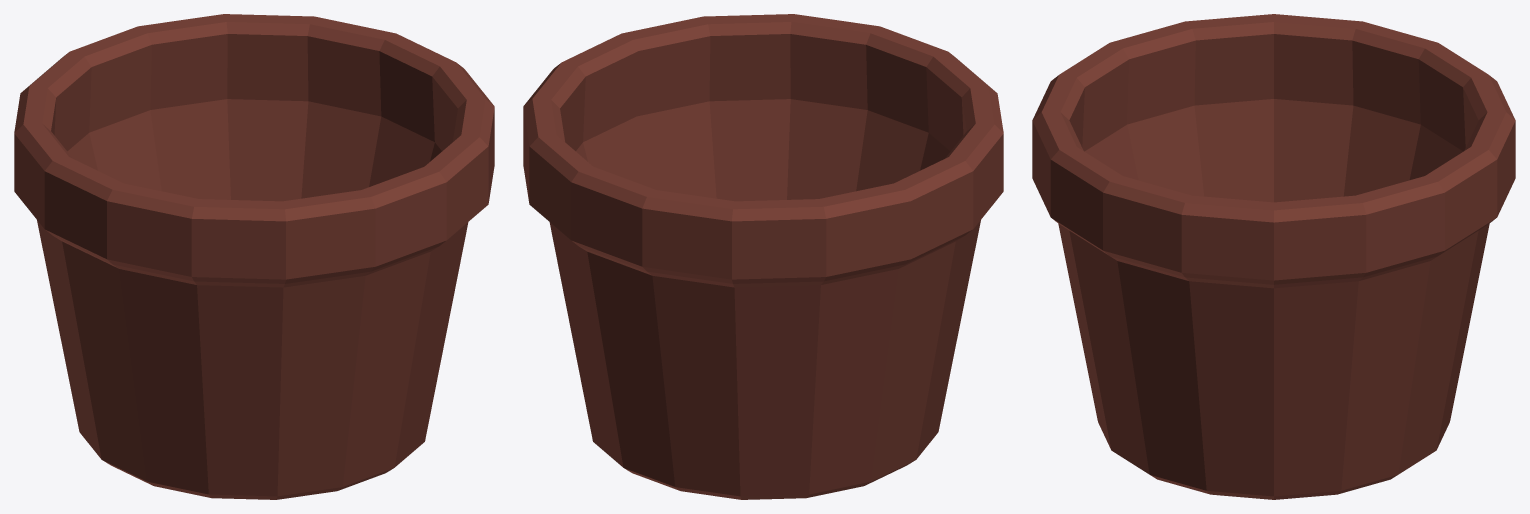
Rendered from Pot.fbx.
3 views of the same model, side by side, from view 1: azimuth 30°, elevation 25°; view 2: azimuth 150°, elevation 25°; view 3: azimuth 270°, elevation 25° (orthographic).
Visible parts, largest first — view 1: Circle.020; view 2: Circle.020; view 3: Circle.020.
Part boxes in pixels (x1,y1,x2,y2): Circle.020: (14,14,494,499); Circle.020: (523,14,1003,499); Circle.020: (1032,14,1515,499).
Bounding box in the file's own units: 117 × 85.11 × 117.
